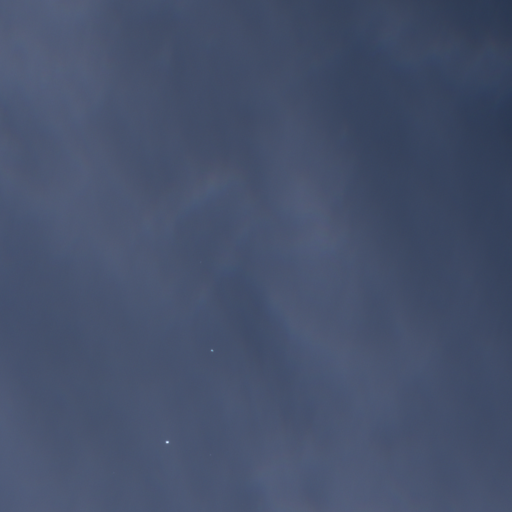Iceberg: (165, 440, 169, 443), (211, 349, 213, 351)
